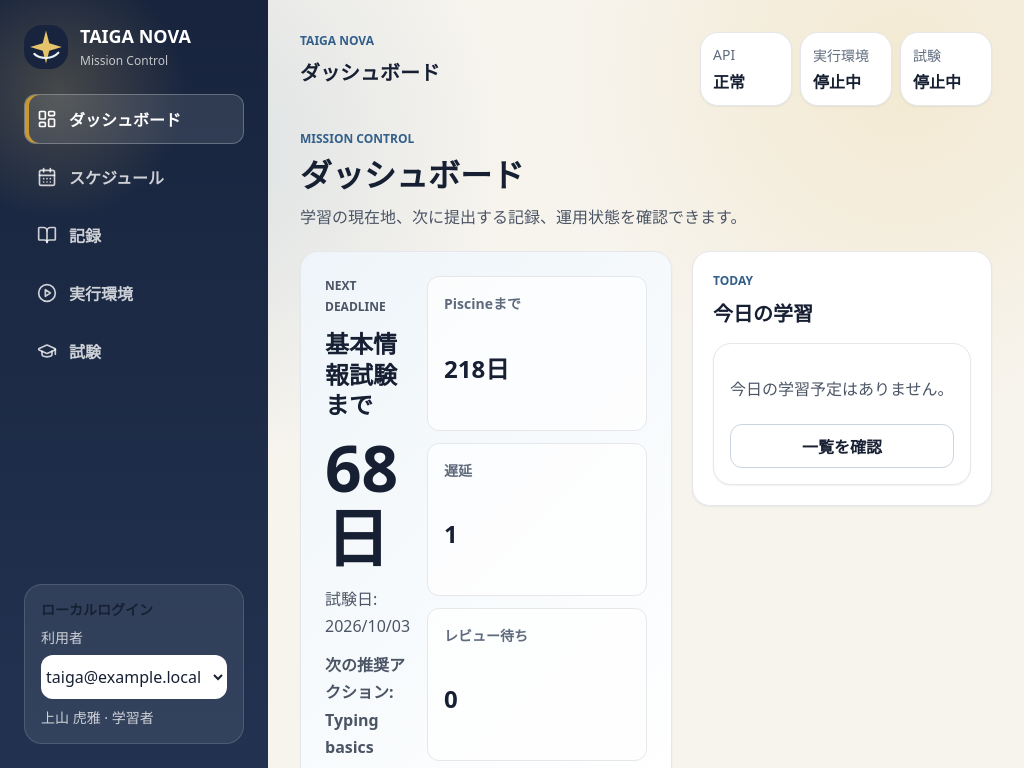
App › renders the local MVP shell for a learner with disabled gated features
Check: the heading "ダッシュボード" is shown, box [300, 153, 524, 196]
Check: the heading "ローカルログイン" is shown, box [41, 600, 153, 619]
Click the link "実行環境" at (85, 294), box [37, 283, 133, 305]
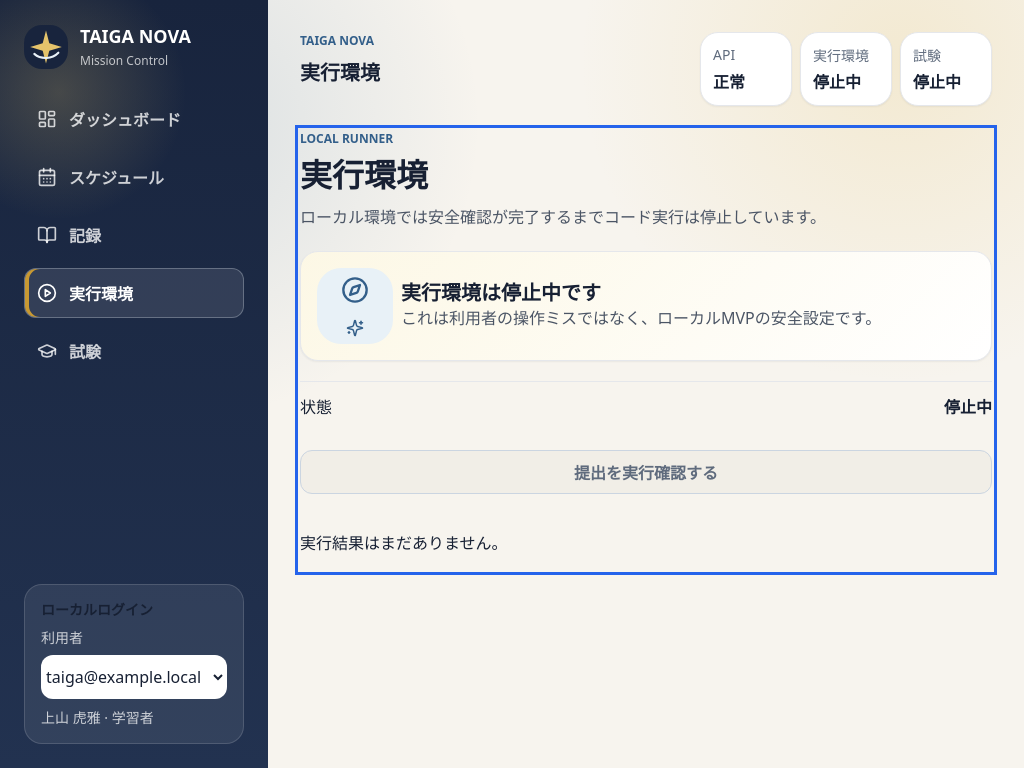
Check: the button "提出を実行確認する" is disabled, box [300, 450, 992, 494]
Check: the text "実行結果はまだありません。" is shown, box [300, 532, 508, 554]
Click the link "試験" at (69, 352), box [37, 341, 101, 363]
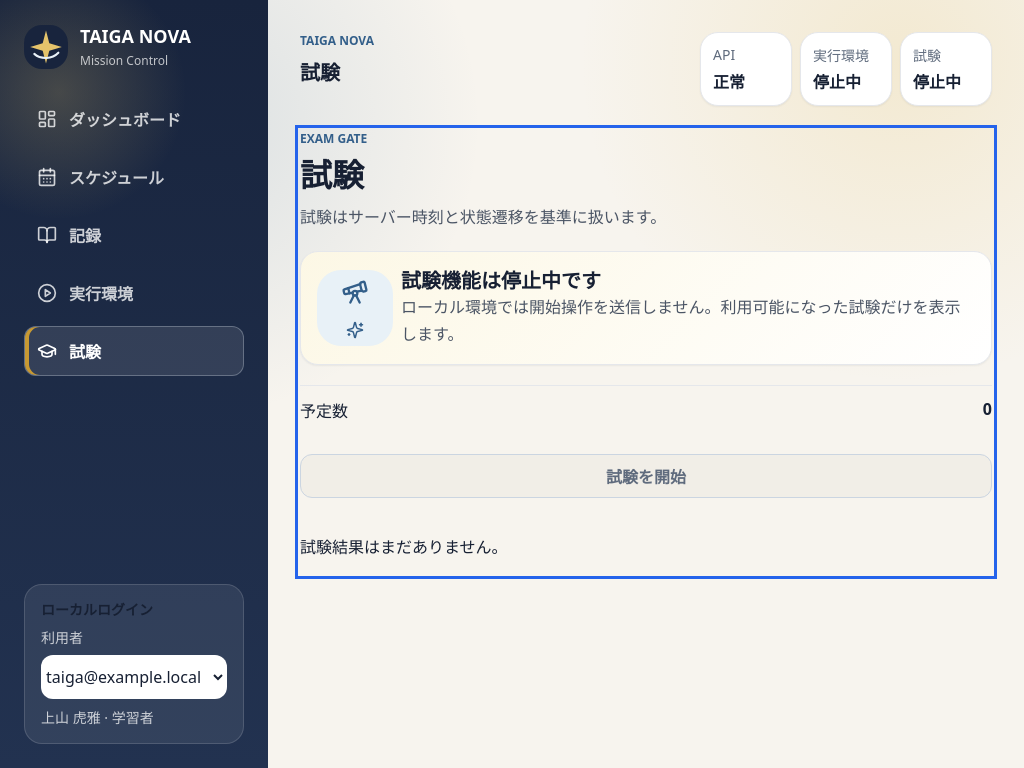
Check: the button "試験を開始" is disabled, box [300, 454, 992, 498]
Check: the text "試験結果はまだありません。" is shown, box [300, 536, 508, 558]
